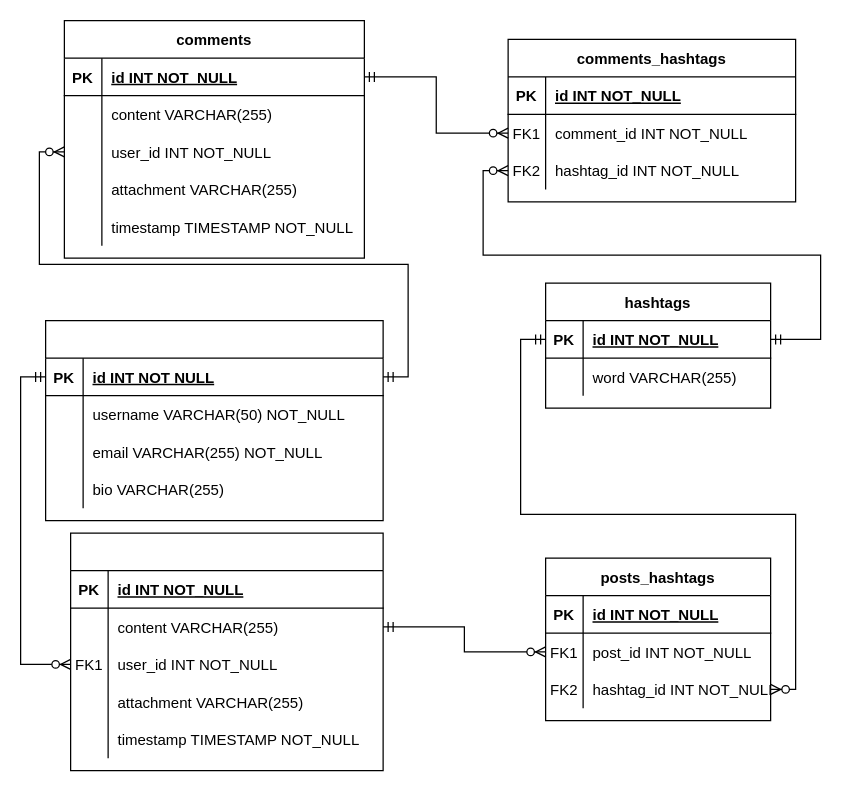
The diagram is 841 pixels wide and 791 high, and some of its shapes have lost their labels. The shapes that lost their labels are listed below. From the top down, each one's box as (x1, y1, x2, y2) in pixels, then its label:
(44, 319, 383, 521): users
(69, 532, 383, 771): posts
